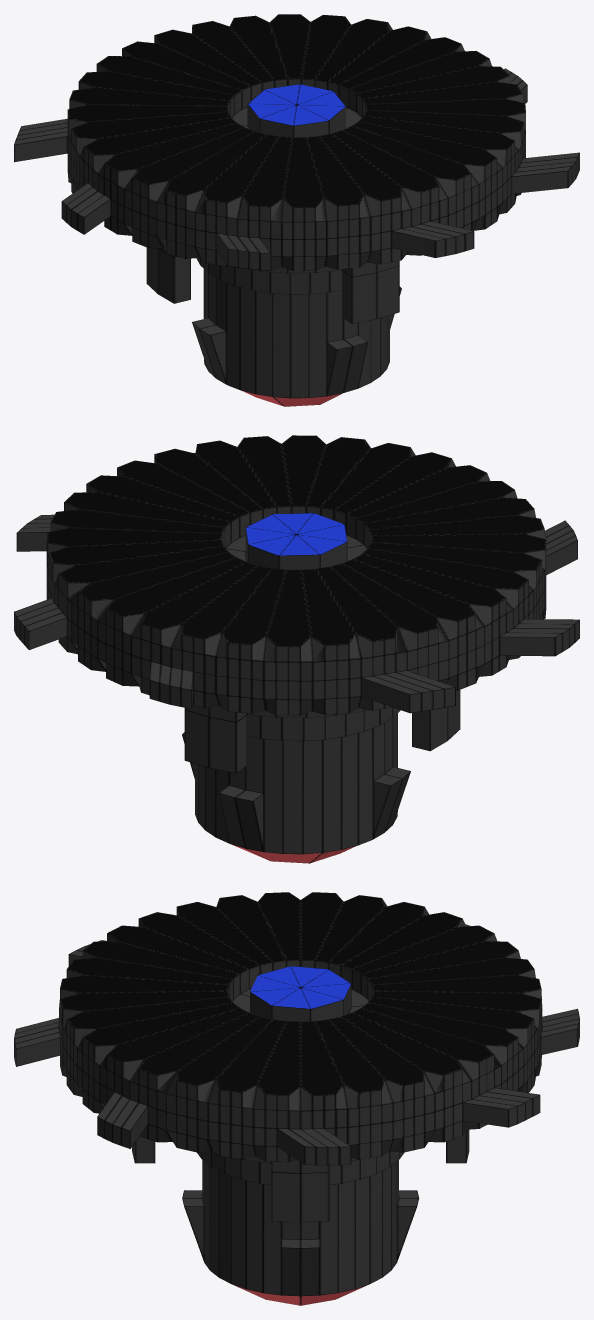
File: beyblade.fbx
The picture shows the model from 3 angles, top to bottom: view 1: azimuth 30°, elevation 25°; view 2: azimuth 150°, elevation 25°; view 3: azimuth 270°, elevation 25°; orthographic projection. The views are drawn at different scales.
Parts seen in each view (by area): view 1: Cylinder; view 2: Cylinder; view 3: Cylinder.
Part boxes in pixels (bbox=[...]): Cylinder: bbox=[14, 14, 579, 406]; Cylinder: bbox=[14, 435, 579, 863]; Cylinder: bbox=[14, 892, 579, 1305].
Bounding box in the file's own units: 584 × 355 × 576.
